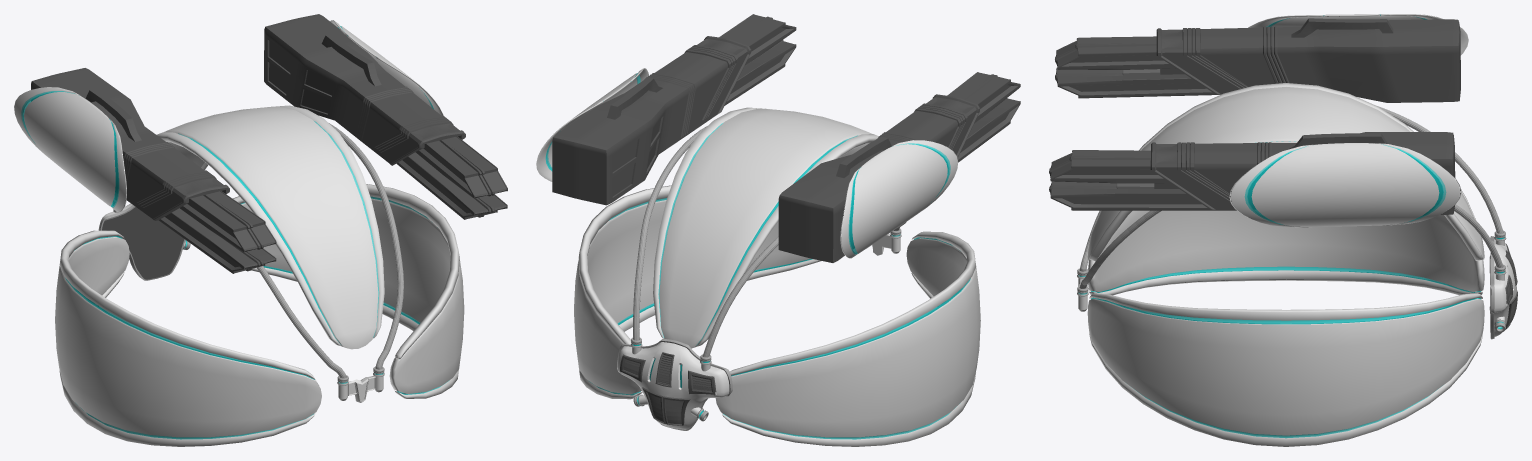
File: FBX_nextgen.fbx
The picture shows the model from 3 angles, left to right: view 1: azimuth 30°, elevation 25°; view 2: azimuth 150°, elevation 25°; view 3: azimuth 270°, elevation 25°; orthographic projection.
Visible parts, largest first — view 1: _nextgenRig; view 2: _nextgenRig; view 3: _nextgenRig.
Boxes of the visible parts, bbox=[...] form: _nextgenRig: bbox=[14, 14, 507, 446]; _nextgenRig: bbox=[536, 14, 1020, 446]; _nextgenRig: bbox=[1049, 14, 1517, 446].
Size of the model in its own units: 16.25 by 12.36 by 18.37.
